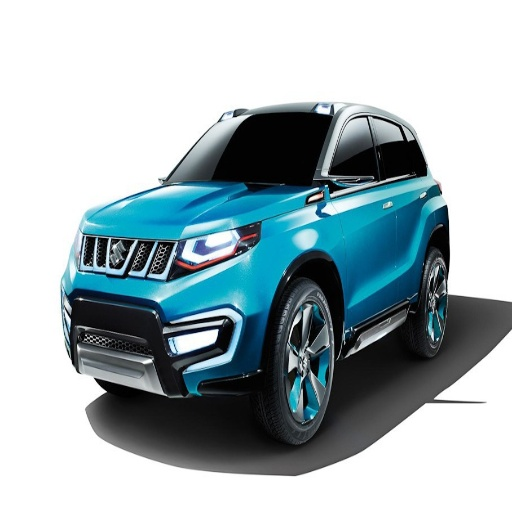front_bumper: (60, 234, 279, 396)
front_glass: (165, 115, 326, 184)
front_left_door: (325, 112, 395, 319)
